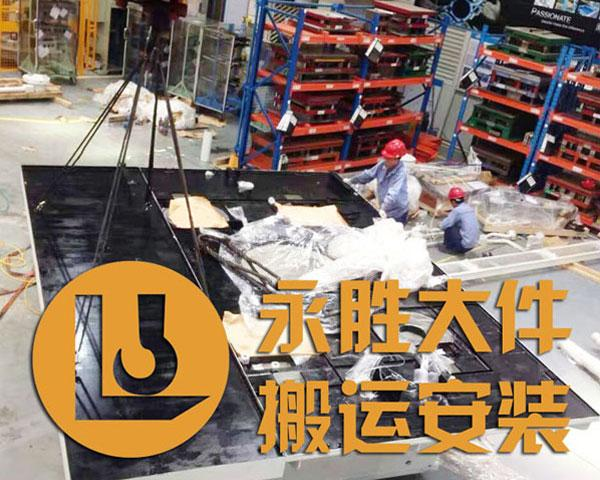helmet: (382, 139, 409, 161), (449, 186, 467, 201)
